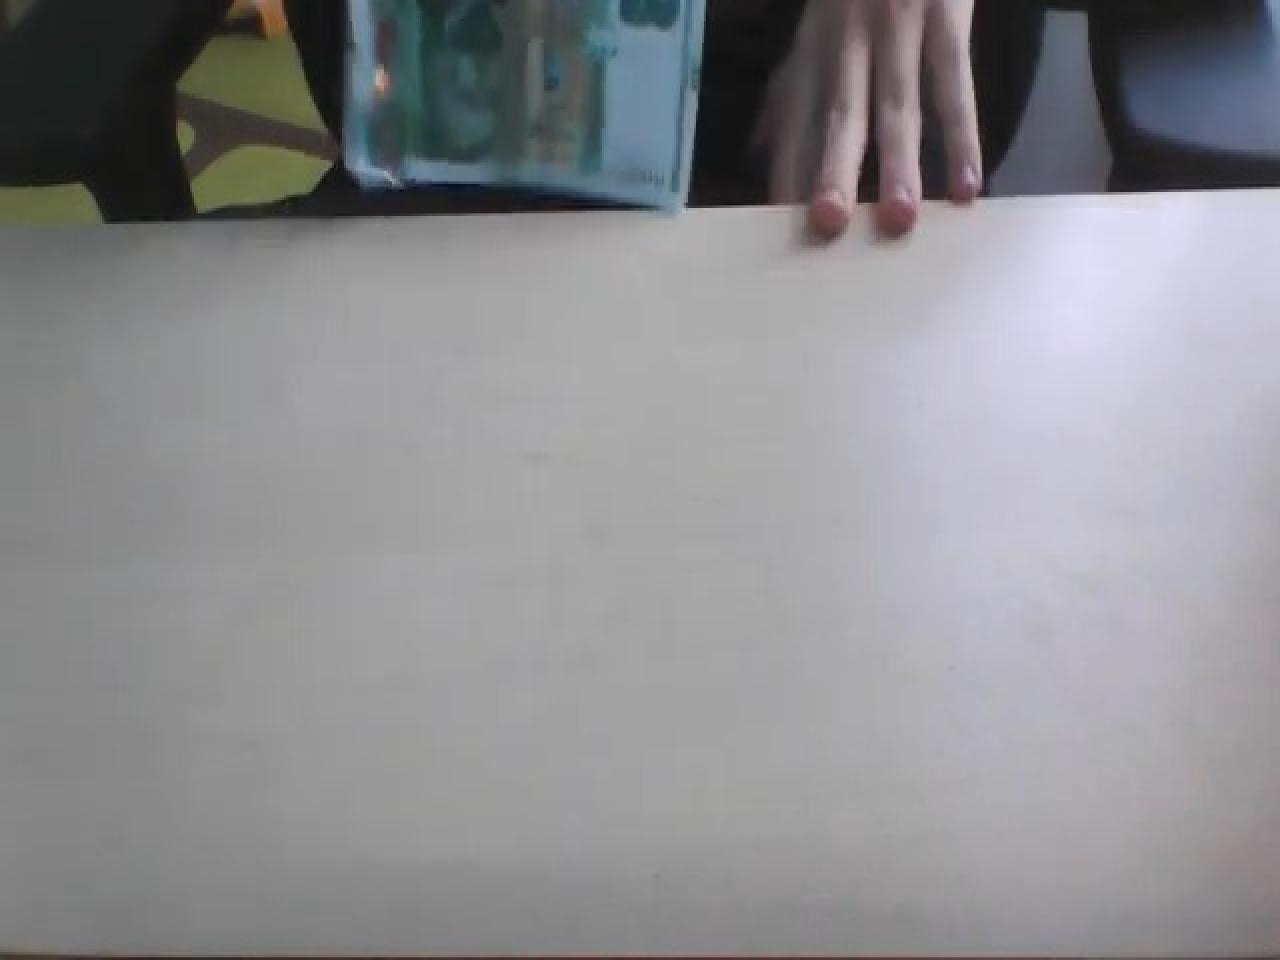100leva: (332, 0, 710, 211)
